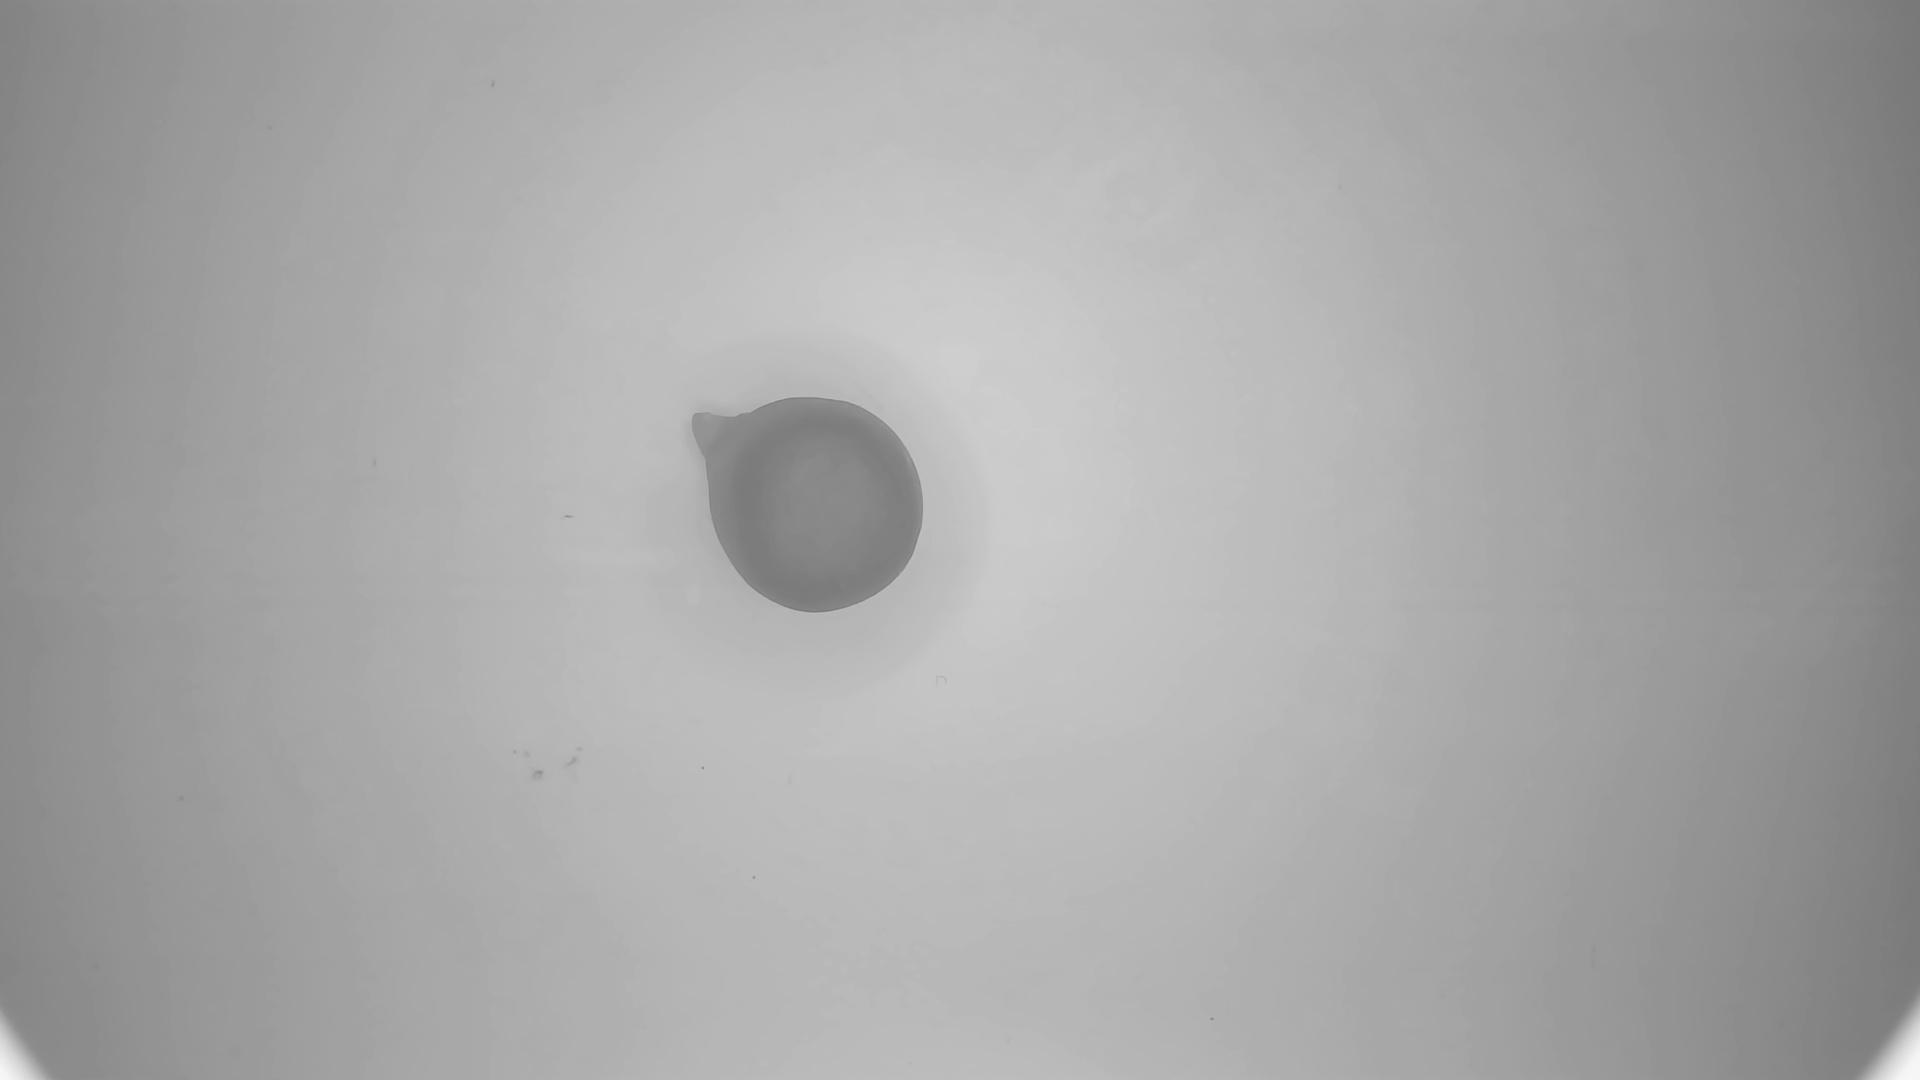abnormal: (688, 393, 926, 615)
